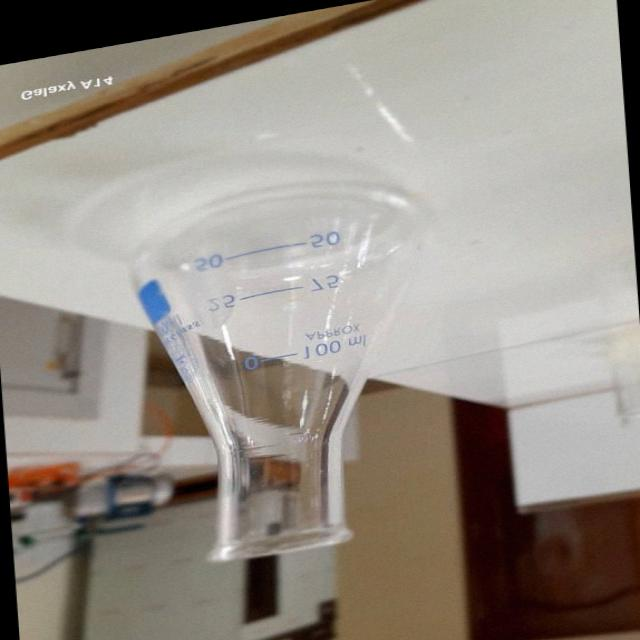Conical Flask: (118, 158, 462, 584)
